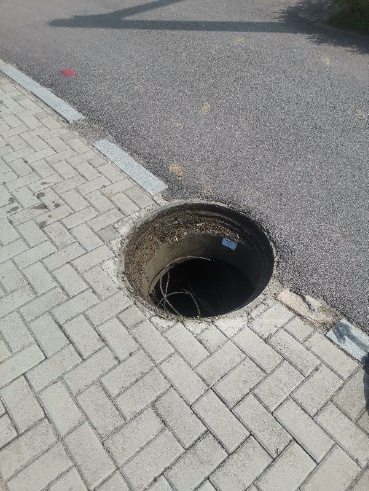lose: (116, 199, 278, 323)
